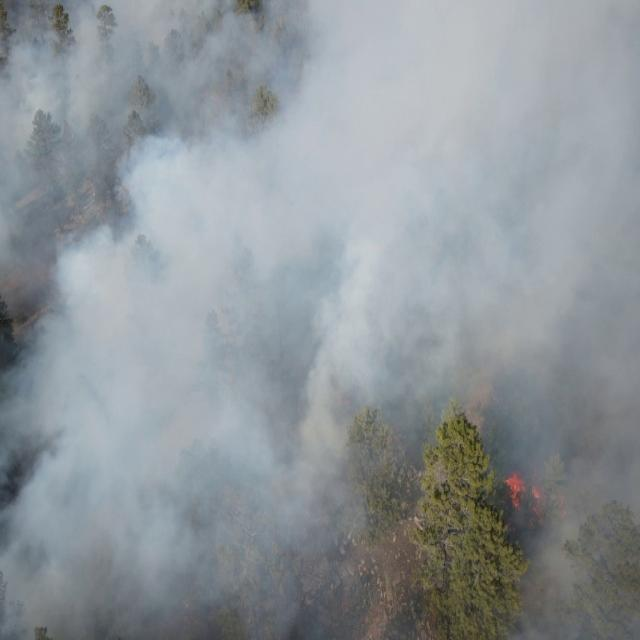fire: (504, 472, 546, 522), (551, 490, 570, 518)
smoke: (0, 0, 382, 640), (384, 1, 640, 446), (481, 444, 640, 640)
